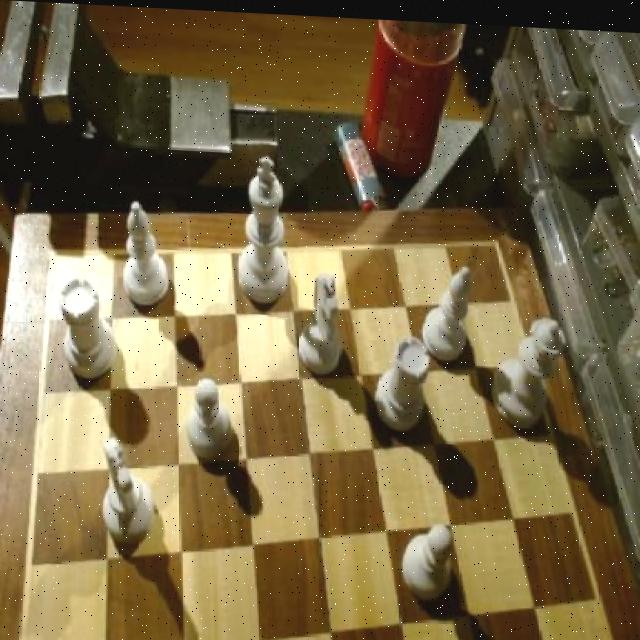black-rook: (416, 258, 476, 364), (120, 197, 172, 313)
white-bishop: (234, 147, 289, 308)
white-king: (94, 432, 156, 549), (294, 273, 343, 374)
white-knight: (396, 518, 456, 602), (181, 372, 234, 461)
white-pawn: (490, 309, 569, 427)
white-queen: (368, 329, 432, 440), (55, 275, 117, 389)
